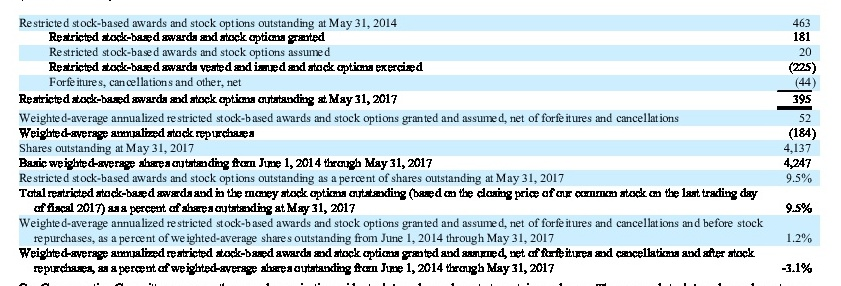table: (0, 0, 841, 286)
